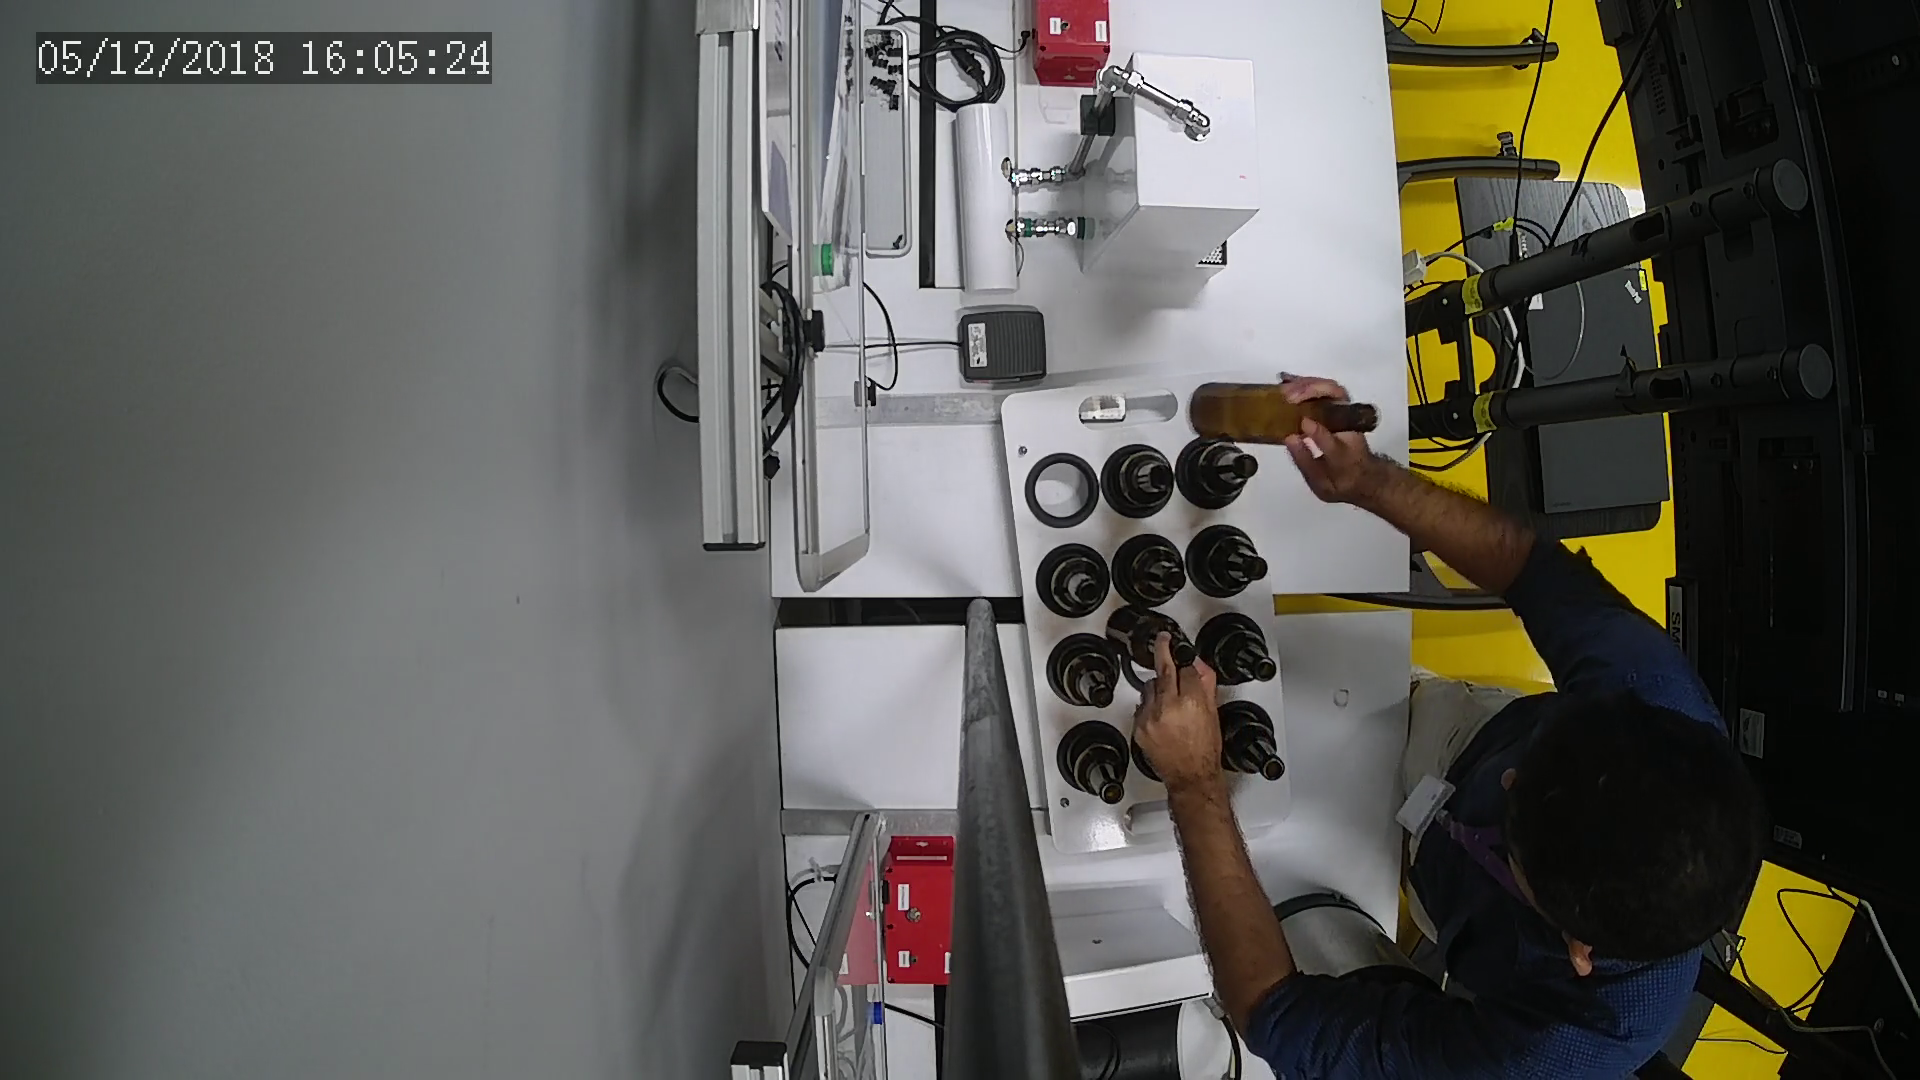filled_bottle: (1026, 531, 1112, 628), (1183, 522, 1278, 607), (1060, 711, 1133, 818), (1199, 615, 1283, 699), (1215, 705, 1291, 795), (1043, 632, 1124, 715), (1101, 440, 1178, 524), (1110, 534, 1185, 616), (1189, 438, 1258, 513)
trolley: (1007, 368, 1299, 849)
